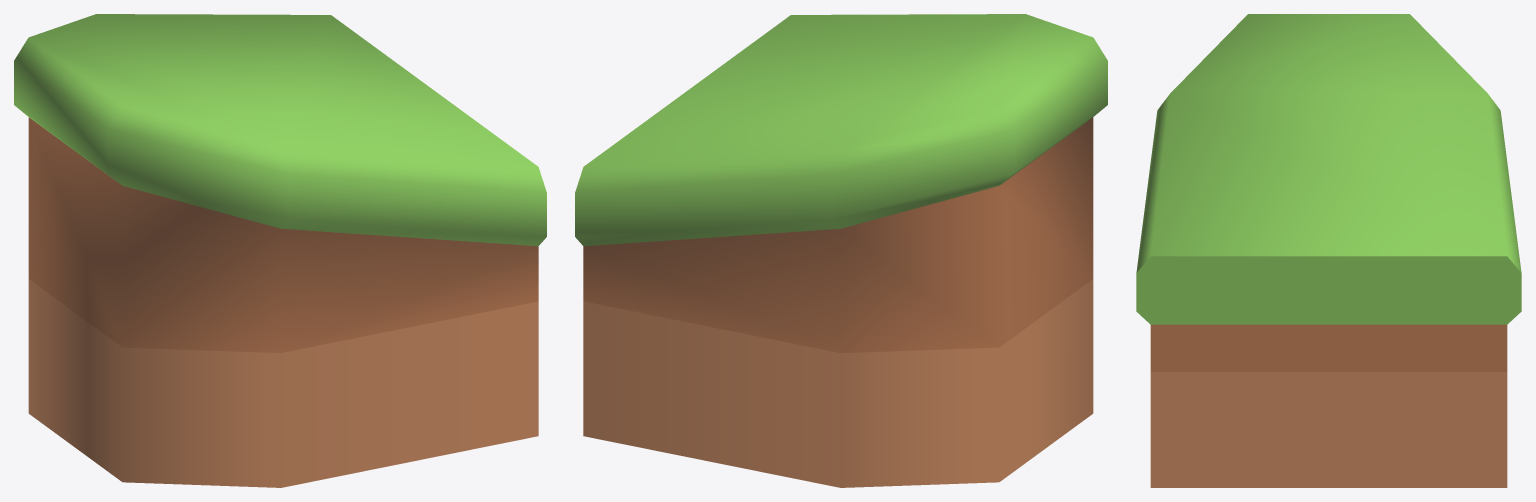
File: 01_slope_down_normal_right.glb
3 views of the same model, side by side, from view 1: azimuth 30°, elevation 25°; view 2: azimuth 150°, elevation 25°; view 3: azimuth 270°, elevation 25° (orthographic). The views are drawn at different scales.
Visible parts, largest first — view 1: 01_slope_down_normal_right; view 2: 01_slope_down_normal_right; view 3: 01_slope_down_normal_right.
Boxes of the visible parts, x1,y1,x2,y2 form: 01_slope_down_normal_right: (14, 14, 546, 487); 01_slope_down_normal_right: (575, 14, 1107, 487); 01_slope_down_normal_right: (1136, 14, 1521, 487).
Size of the model in its own units: 0.52 by 0.5 by 0.54.
